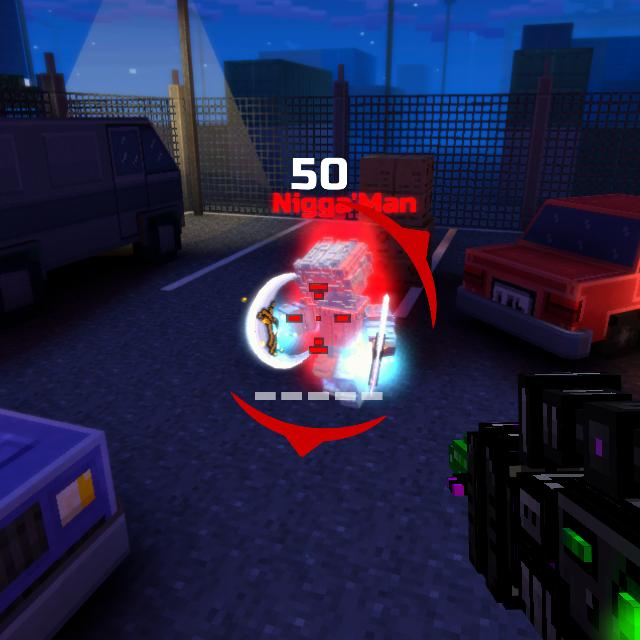Enemy: (274, 237, 397, 408)
